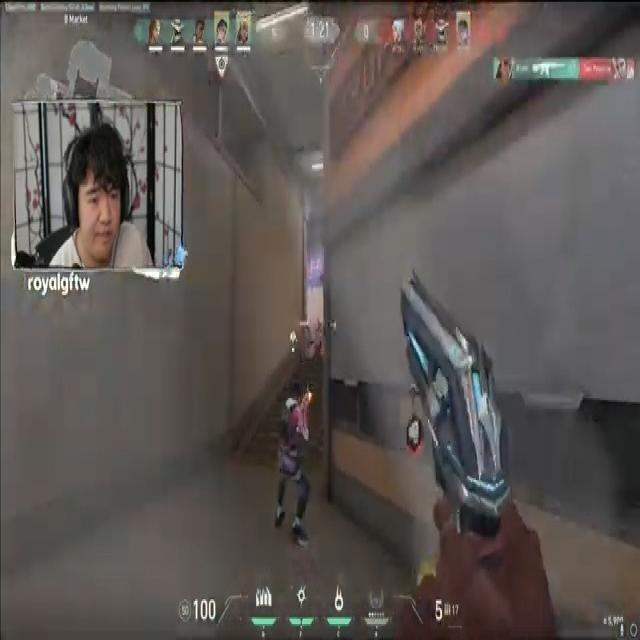ally: (263, 366, 329, 552)
